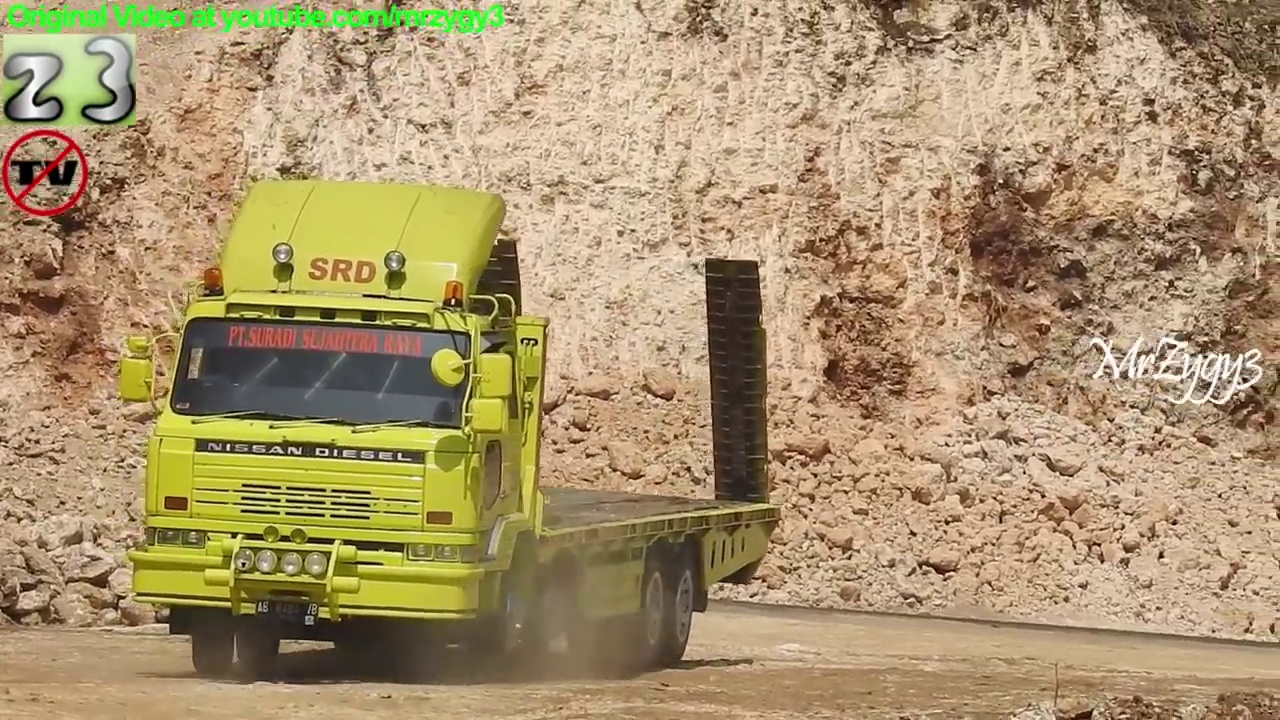truck: (115, 171, 788, 690)
